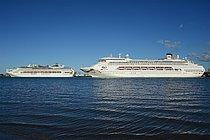Ship: (78, 51, 209, 81), (5, 59, 78, 81)
